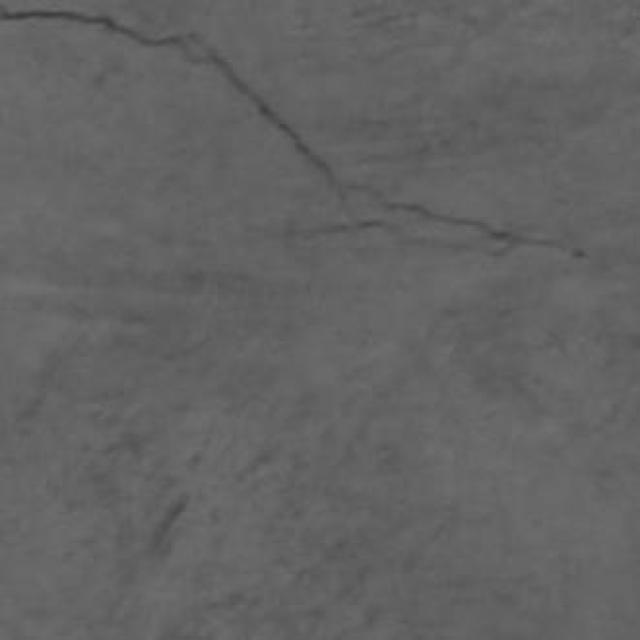crack: (0, 4, 585, 257), (0, 6, 347, 201), (350, 185, 585, 259)
